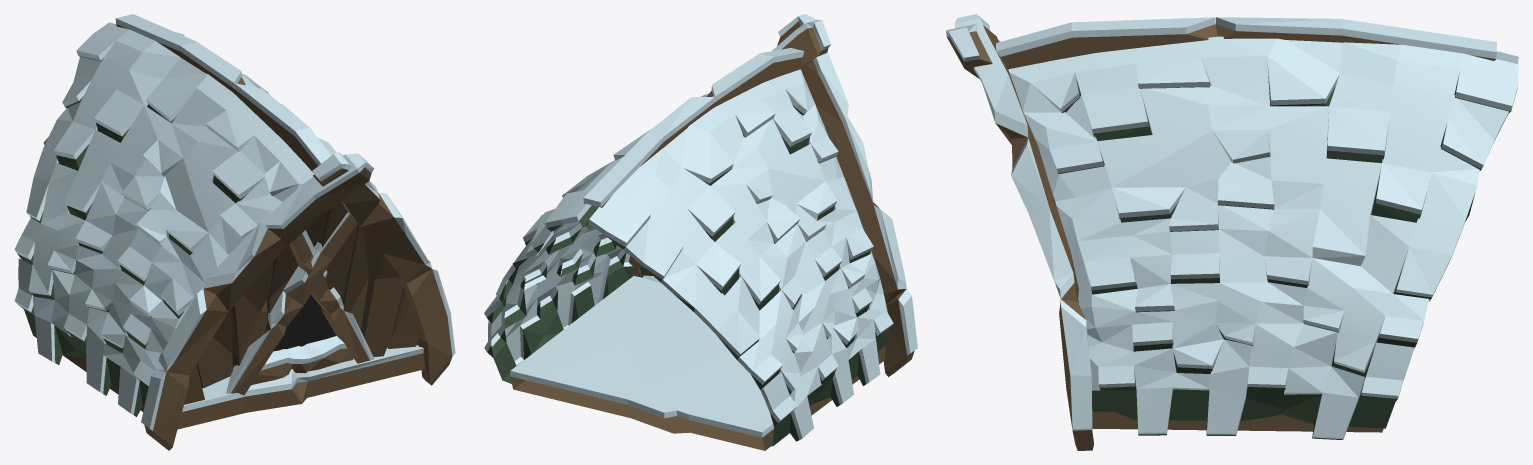
The model's file is Techo_Ventana01.glb.
The picture shows the model from 3 angles, left to right: view 1: azimuth 30°, elevation 25°; view 2: azimuth 150°, elevation 25°; view 3: azimuth 270°, elevation 25°; orthographic projection. The views are drawn at different scales.
Visible parts, largest first — view 1: SM_Bld_Roof_Window_01_Snow; view 2: SM_Bld_Roof_Window_01_Snow; view 3: SM_Bld_Roof_Window_01_Snow.
Boxes of the visible parts, left/top/right/bottom form: SM_Bld_Roof_Window_01_Snow: left=14, top=14, right=455, bottom=450; SM_Bld_Roof_Window_01_Snow: left=484, top=14, right=917, bottom=450; SM_Bld_Roof_Window_01_Snow: left=946, top=14, right=1518, bottom=450.
Size of the model in its own units: 3.09 by 2.85 by 4.16.
1 material, 1 textured.
